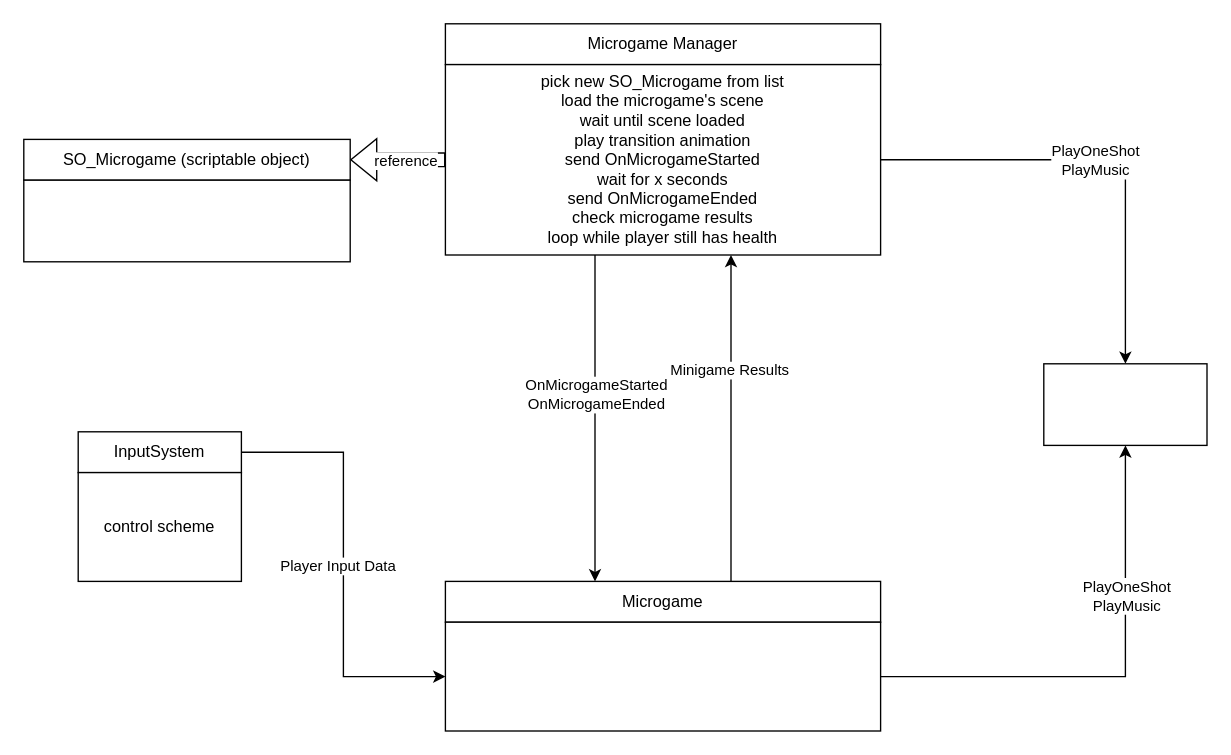
Image size: 1231x755. Some labels were removed from this diagram. The centre of each missing label's shape, as x and y in pixels:
"Audio Manager" belongs at (x=1124, y=403).
"handle microgame specific controls play microgame specific animations" belongs at (x=662, y=676).
"Scene microgameScene string microgameDescription" belongs at (x=186, y=220).
